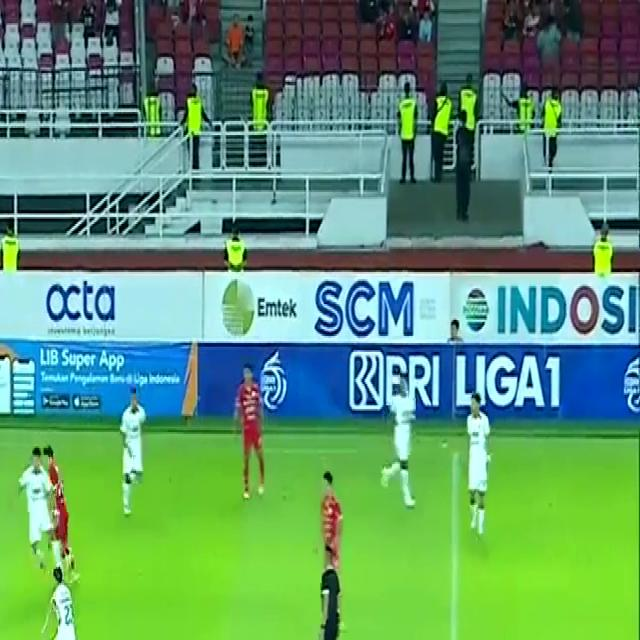referee: (302, 551, 357, 640)
soccer-player: (16, 436, 74, 574), (377, 363, 421, 511), (230, 353, 273, 503), (113, 383, 152, 527), (34, 554, 99, 640), (461, 386, 493, 546), (313, 471, 352, 576)
